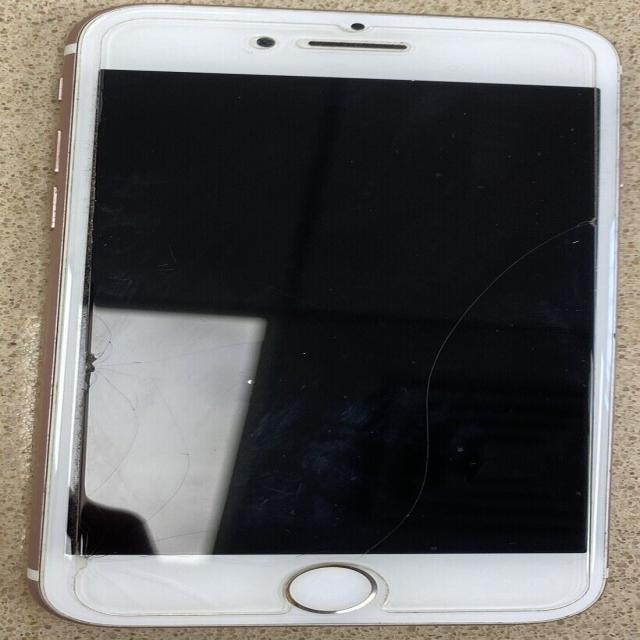Crack: (77, 337, 110, 392)
Scratches: (376, 208, 580, 476)
